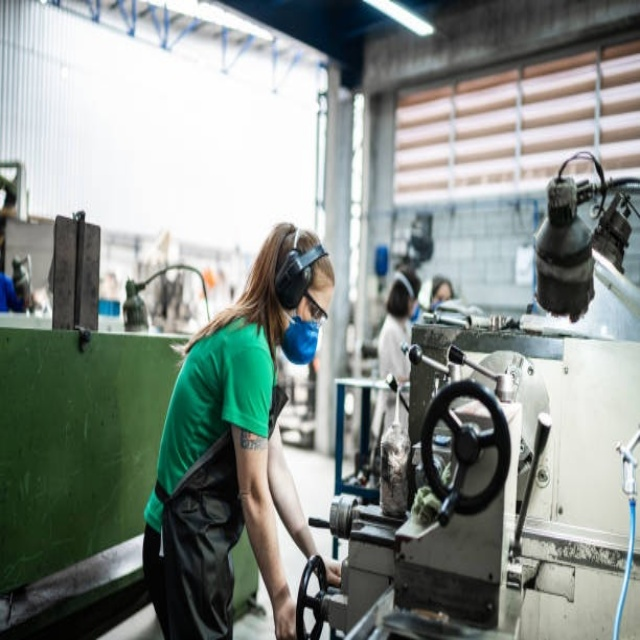Gafas: (299, 291, 329, 326)
Mascara: (280, 305, 323, 365), (410, 304, 420, 323)
Sin_guantes: (266, 590, 297, 635), (322, 559, 342, 589)
